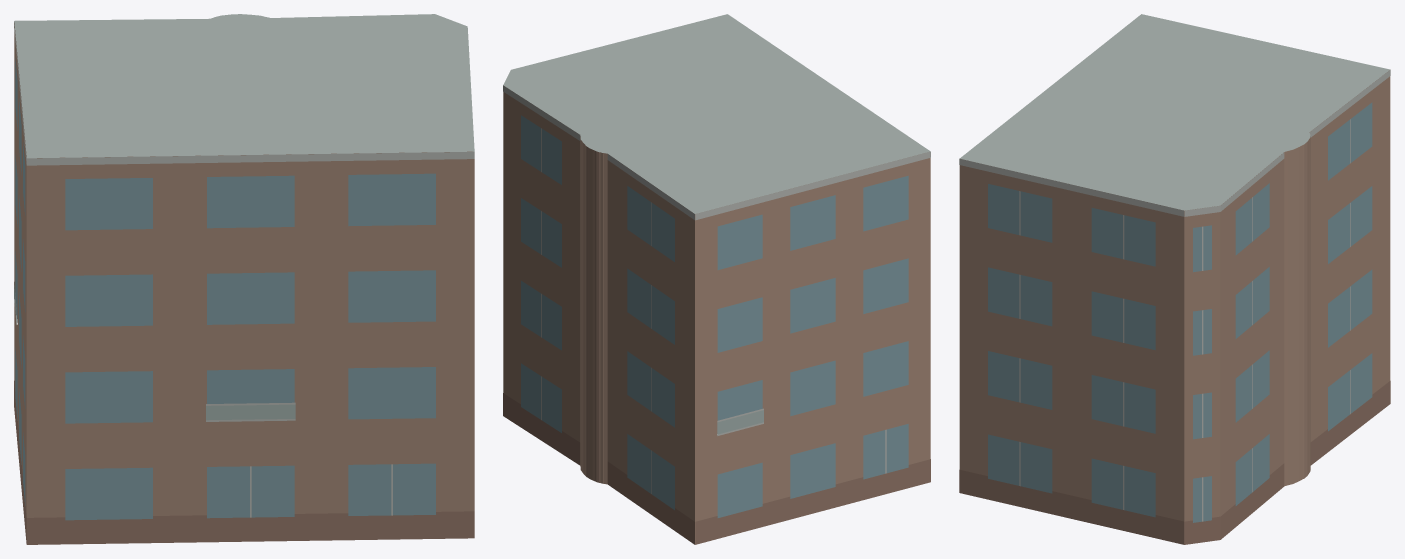
Rendered from survey-upis-32801765.glb.
3 views of the same model, side by side, from view 1: azimuth 30°, elevation 25°; view 2: azimuth 150°, elevation 25°; view 3: azimuth 270°, elevation 25° (orthographic). The views are drawn at different scales.
Visible parts, largest first — view 1: survey-upis-32801765.tmp; view 2: survey-upis-32801765.tmp; view 3: survey-upis-32801765.tmp.
Part boxes in pixels (box(x1,y1,x2,y2)): survey-upis-32801765.tmp: box(14, 14, 474, 544); survey-upis-32801765.tmp: box(503, 14, 930, 544); survey-upis-32801765.tmp: box(959, 14, 1390, 544).
Size of the model in its own units: 16.15 by 12.8 by 14.97.
